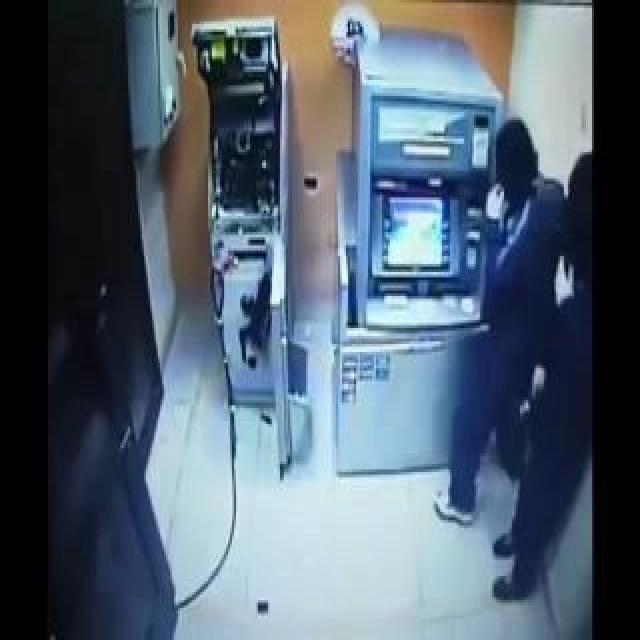thief: (461, 126, 582, 391)
